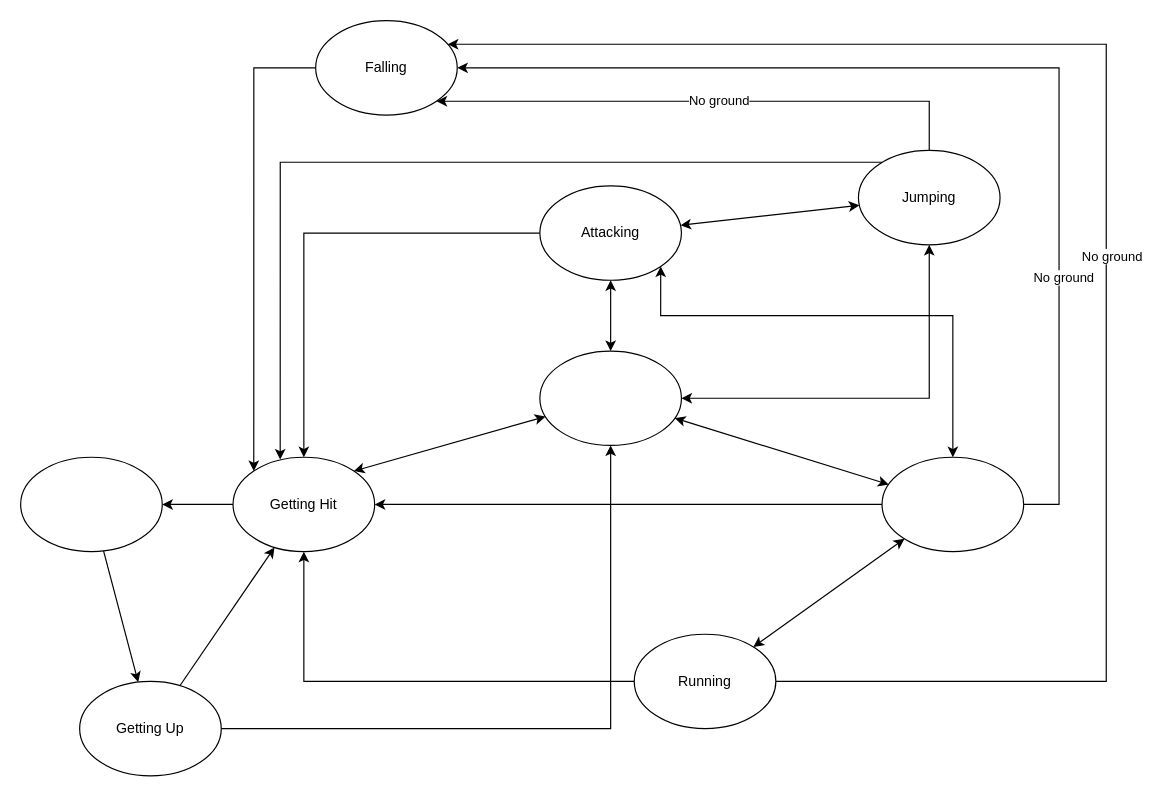
The diagram is 1162 pixels wide and 796 high, and some of its shapes have lost their labels. Here are the shapes that lost their labels. From the top down, the box of each, then its label:
(539, 350, 681, 445): Idle/Free
(19, 456, 162, 552): Fainting
(881, 456, 1024, 552): Walking
